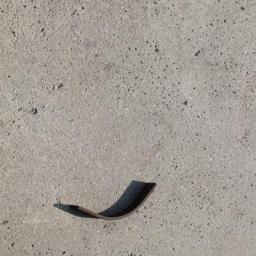FOD: (66, 182, 163, 222)
